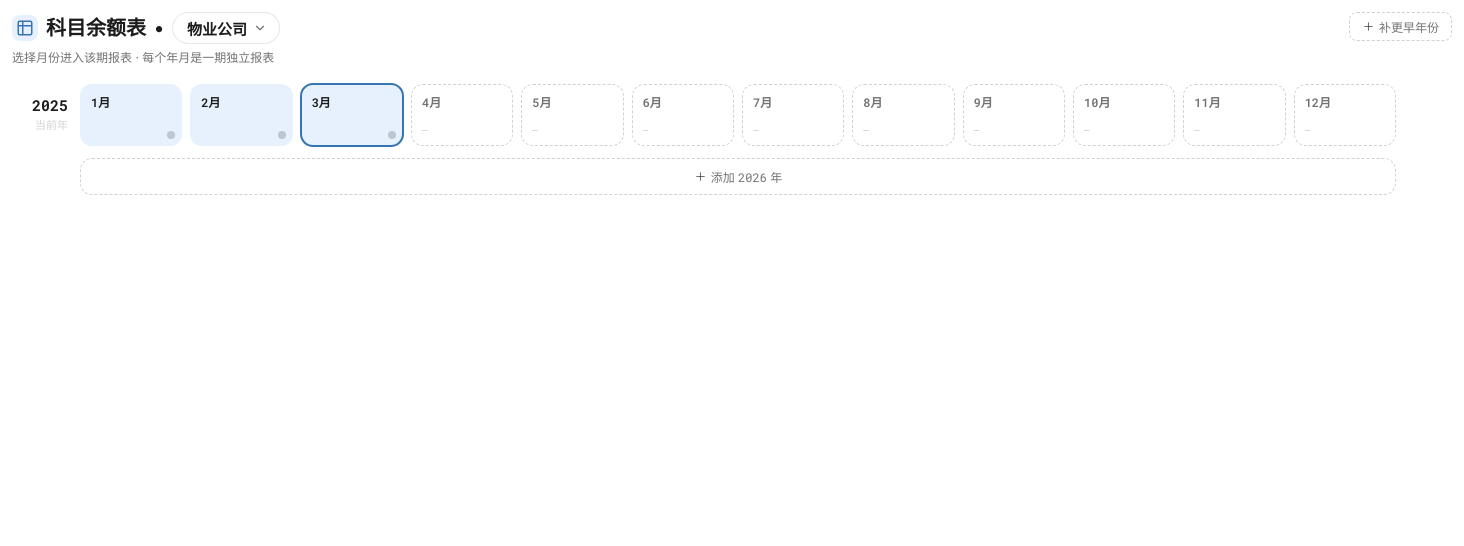
科目余额表 · S 档行→卡片 › ❗S 档查看态出 88 档卡片,表不再渲;行数 = 折叠后的可见行(默认只到一级)
Step 1. Click the button with class "bmm-card" showing "1月" → (131, 115), box [80,84,182,146]
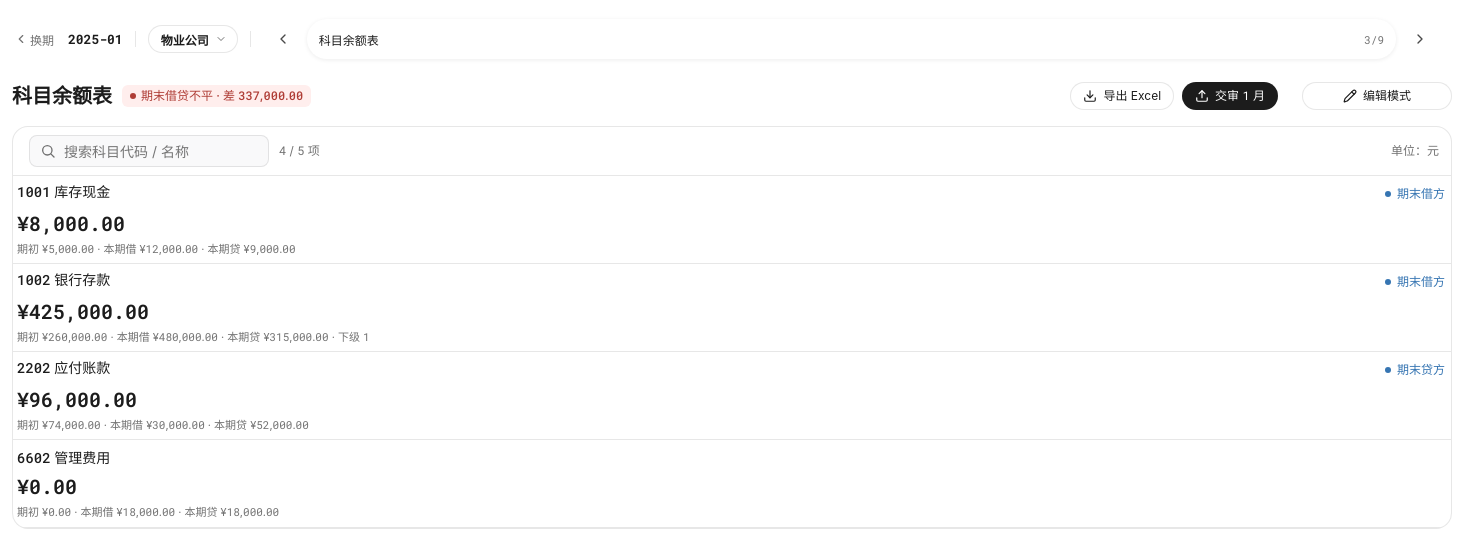
Check: the number of elements with class "fpwc-c" is 4, box [13,176,1451,264]; [13,264,1451,352]; [13,352,1451,440]; [13,440,1451,528]
